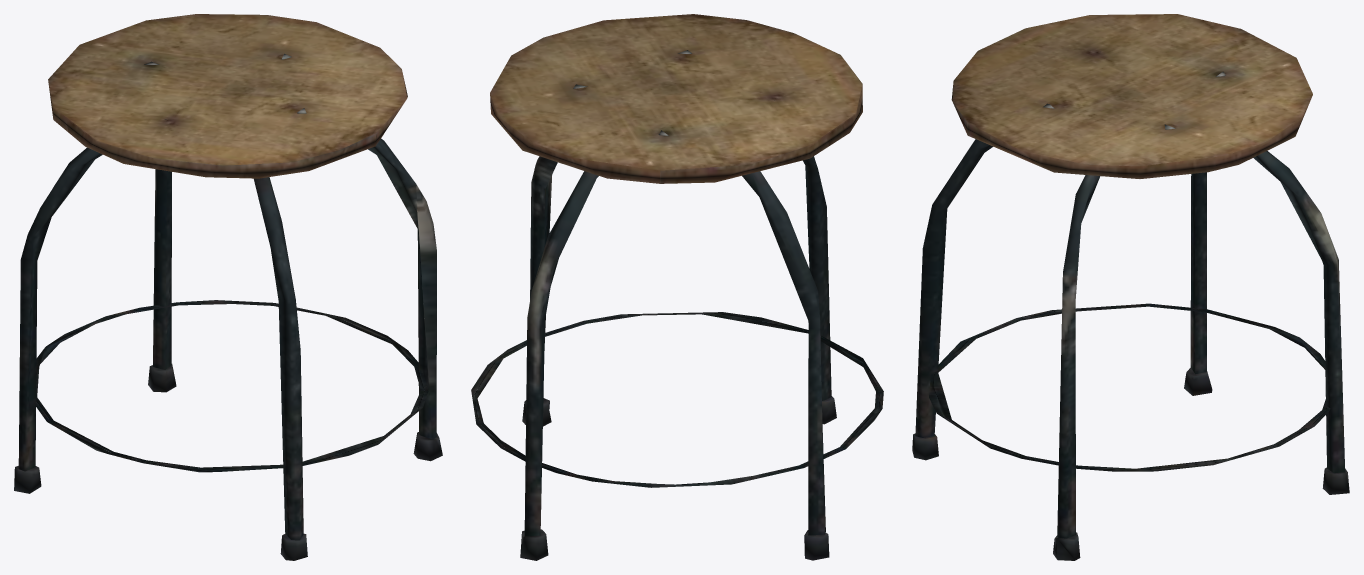
File: metal_stool_02.glb
The picture shows the model from 3 angles, left to right: view 1: azimuth 30°, elevation 25°; view 2: azimuth 150°, elevation 25°; view 3: azimuth 270°, elevation 25°; orthographic projection. The views are drawn at different scales.
Visible parts, largest first — view 1: metal_stool_02; view 2: metal_stool_02; view 3: metal_stool_02.
Boxes of the visible parts, x1,y1,x2,y2 form: metal_stool_02: [14, 14, 442, 560]; metal_stool_02: [471, 14, 883, 560]; metal_stool_02: [912, 14, 1349, 560].
Bounding box in the file's own units: 0.4441 × 0.4554 × 0.4681.
Materials: 1 (1 with a texture image).
